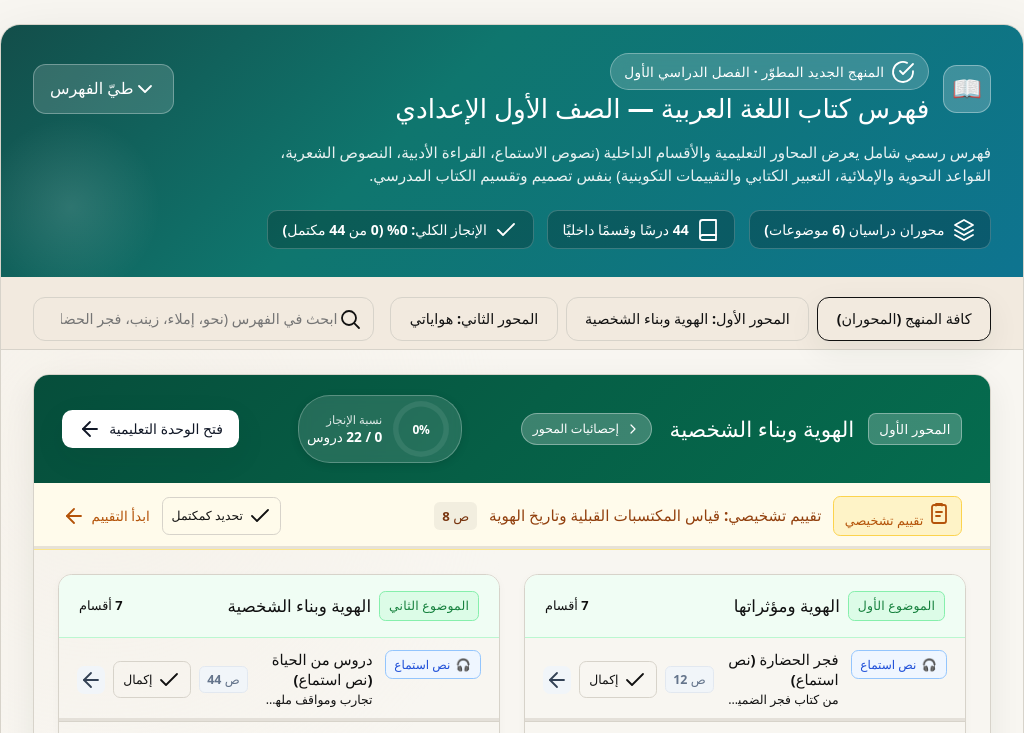
Test: شرائح تصفية فئات الطلاب داخل القائمة المنسدلة (Student Cohort Filter Chips) › تعرض القائمة المنسدلة شرائح التصفية الثلاث (All Students, Top Performers, Needs Support) عند فتحها
النقر لتوسيع القائمة المنسدلة
Click the button with aria-label "انقر لعرض إحصائيات سريعة عن دروس المحور" at (915, 429), box [34,375,990,483]
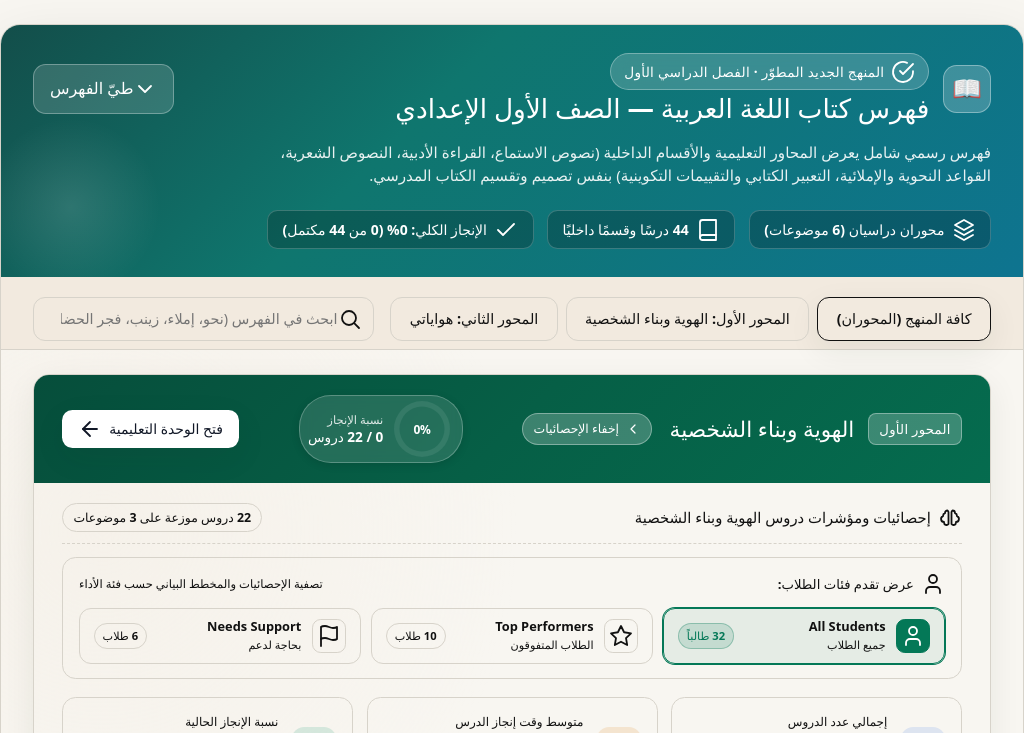
Now the element named "تصفية تقدم الطلاب حسب الفئة" is shown, box [62,557,962,679]
Now the radio button with test id "filter-chip-all-students" is shown, box [663,608,945,664]
Now the text "All Students" is shown, box [809,617,886,635]
